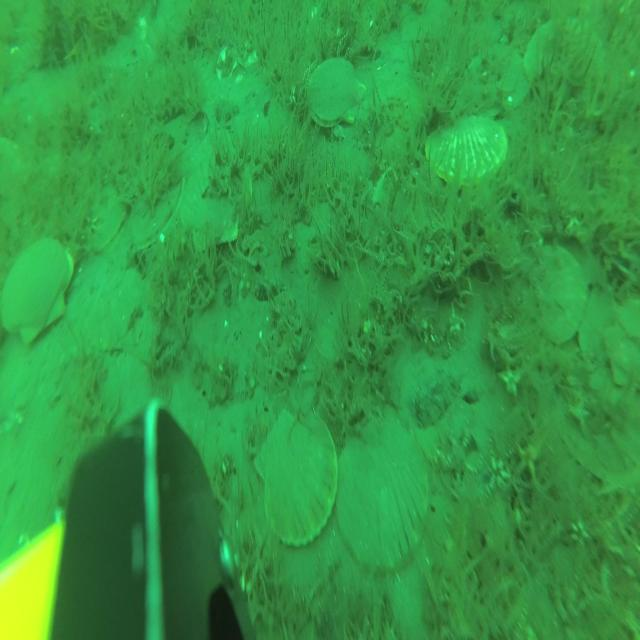scallop: (337, 432, 432, 572), (255, 404, 336, 545), (0, 239, 75, 340), (181, 147, 251, 246), (425, 113, 509, 183), (522, 15, 604, 85), (534, 245, 586, 344), (308, 59, 367, 128)
